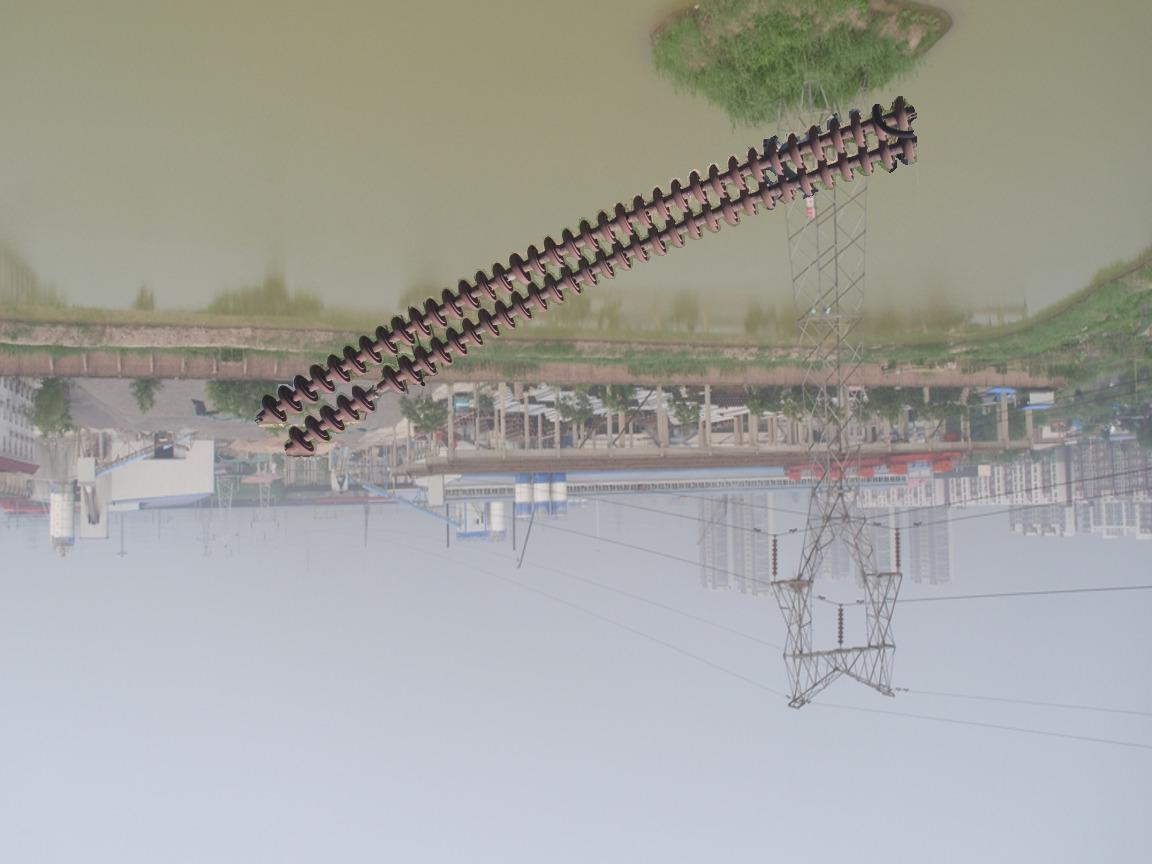insulator: (253, 91, 921, 465), (767, 535, 782, 580), (835, 605, 849, 648), (893, 527, 904, 570)
insulator_stringdrop: (348, 363, 410, 415)
